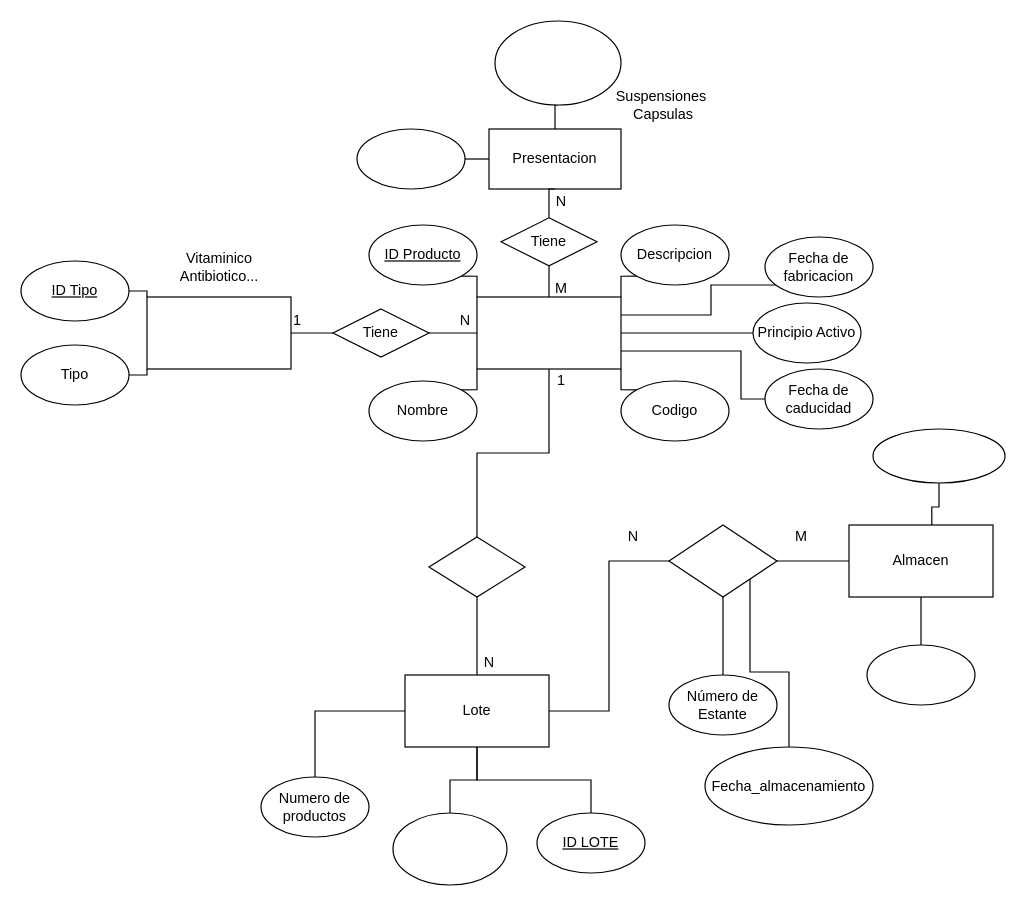
Some shapes in this 1026 by 906 pixel diagram are drawn without their labels. Here are the shapes that lost their labels. From the top down, the box of each, then its label:
(494, 20, 621, 105): ID Presentacion
(356, 128, 465, 189): Tipo de Presentacion
(146, 296, 291, 369): Tipo de medicamento
(476, 296, 621, 369): Producto
(872, 428, 1005, 483): Ubicacion
(428, 536, 525, 597): Posee ^
(668, 524, 777, 597): Almacena
(866, 644, 975, 705): ID Almacen
(392, 812, 507, 885): Número de Lote
